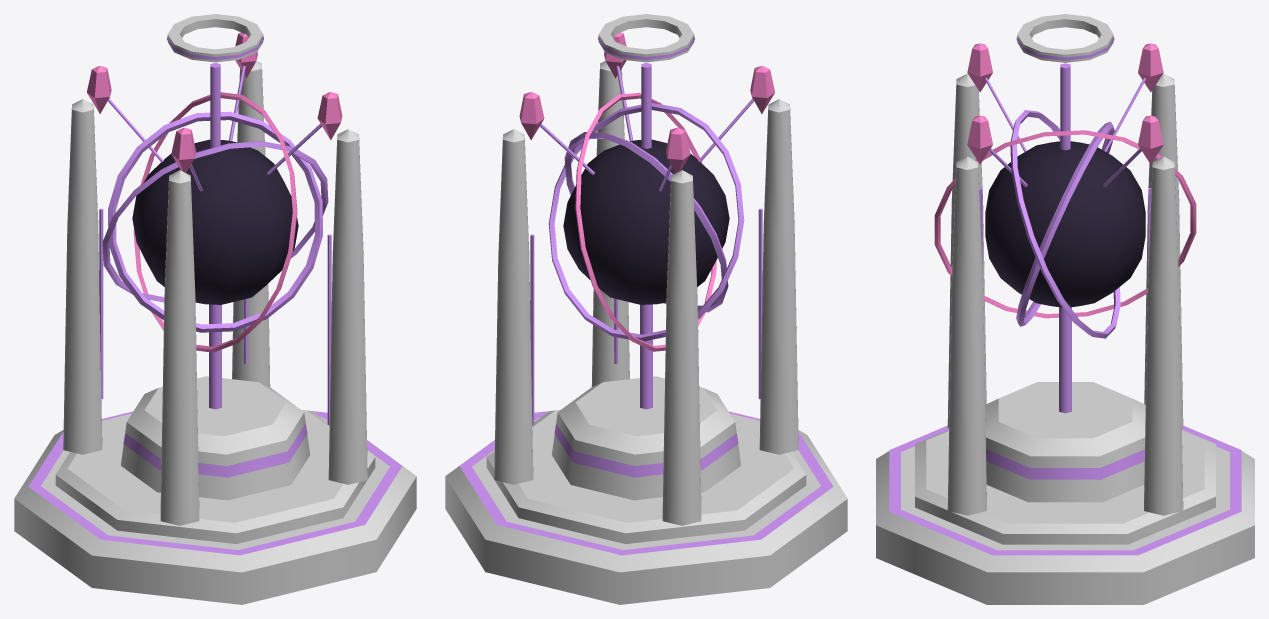
File: VoidReactor.glb
3 renders of one model, left to right at view 1: azimuth 30°, elevation 25°; view 2: azimuth 150°, elevation 25°; view 3: azimuth 270°, elevation 25°, orthographic.
Visible parts, largest first — view 1: Body, Glow, Void, Pink; view 2: Body, Glow, Void, Pink; view 3: Body, Void, Glow, Pink.
Boxes of the visible parts, <box> form: Body: <box>14,14,416,604</box>; Glow: <box>28,37,402,555</box>; Void: <box>132,139,298,304</box>; Pink: <box>87,32,342,352</box>; Body: <box>445,14,847,604</box>; Glow: <box>459,37,833,555</box>; Void: <box>563,139,729,304</box>; Pink: <box>519,32,774,351</box>; Body: <box>876,14,1254,604</box>; Void: <box>985,141,1145,307</box>; Glow: <box>889,37,1241,555</box>; Pink: <box>934,43,1196,318</box>.
Bounding box in the file's own units: 12.56 × 17.95 × 12.56.
